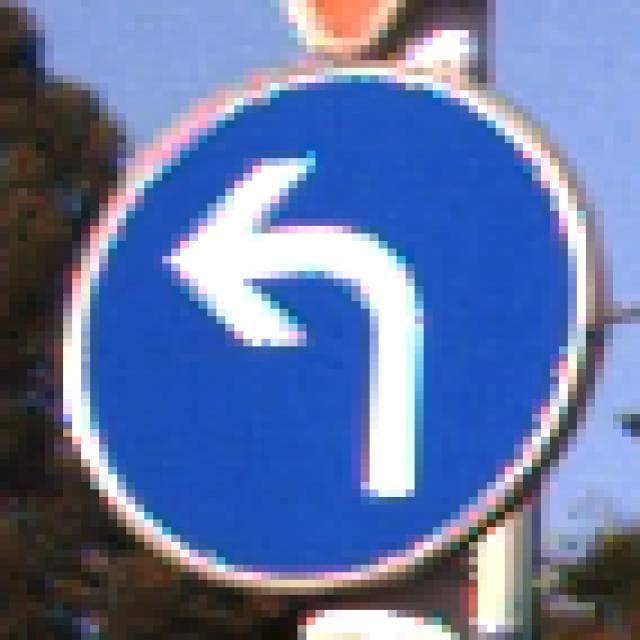compulsary turn left ahead: (62, 60, 602, 596)
